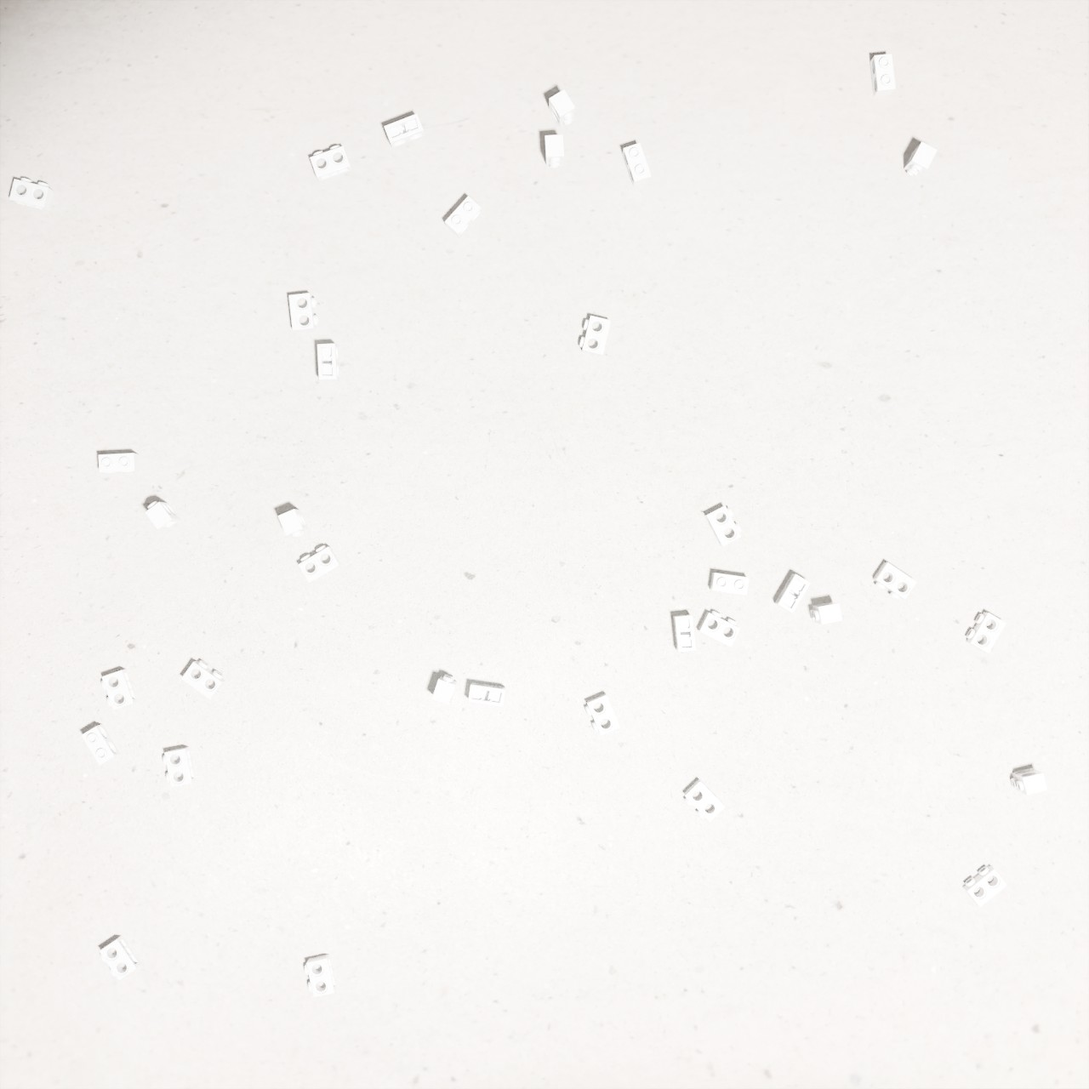lego: (962, 865, 1008, 908), (99, 935, 141, 981), (181, 660, 226, 700), (684, 779, 725, 821), (966, 612, 1007, 654), (872, 562, 917, 600), (81, 724, 120, 766), (298, 545, 341, 583), (310, 145, 352, 182), (445, 196, 482, 238), (698, 611, 741, 647), (585, 693, 621, 736), (9, 178, 54, 212), (705, 506, 742, 547), (101, 669, 138, 710), (775, 574, 811, 614), (384, 113, 425, 148), (304, 954, 337, 997), (163, 746, 196, 787), (579, 316, 611, 357), (622, 143, 651, 187), (903, 141, 938, 177), (289, 293, 319, 333), (870, 54, 896, 97), (145, 501, 180, 530), (1011, 768, 1048, 795), (549, 89, 575, 127), (710, 572, 750, 595), (468, 683, 506, 707), (98, 453, 140, 474), (673, 614, 696, 652), (278, 509, 308, 538), (317, 343, 339, 382), (432, 674, 457, 705), (810, 602, 843, 625), (545, 134, 564, 168)
